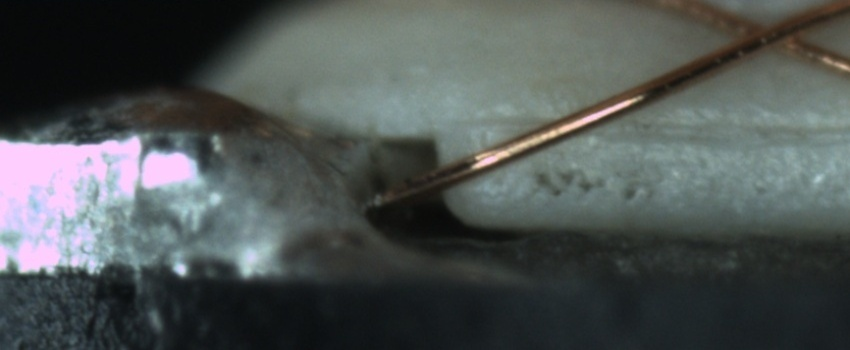CL: (707, 4, 836, 62)
DL: (458, 97, 849, 161)
